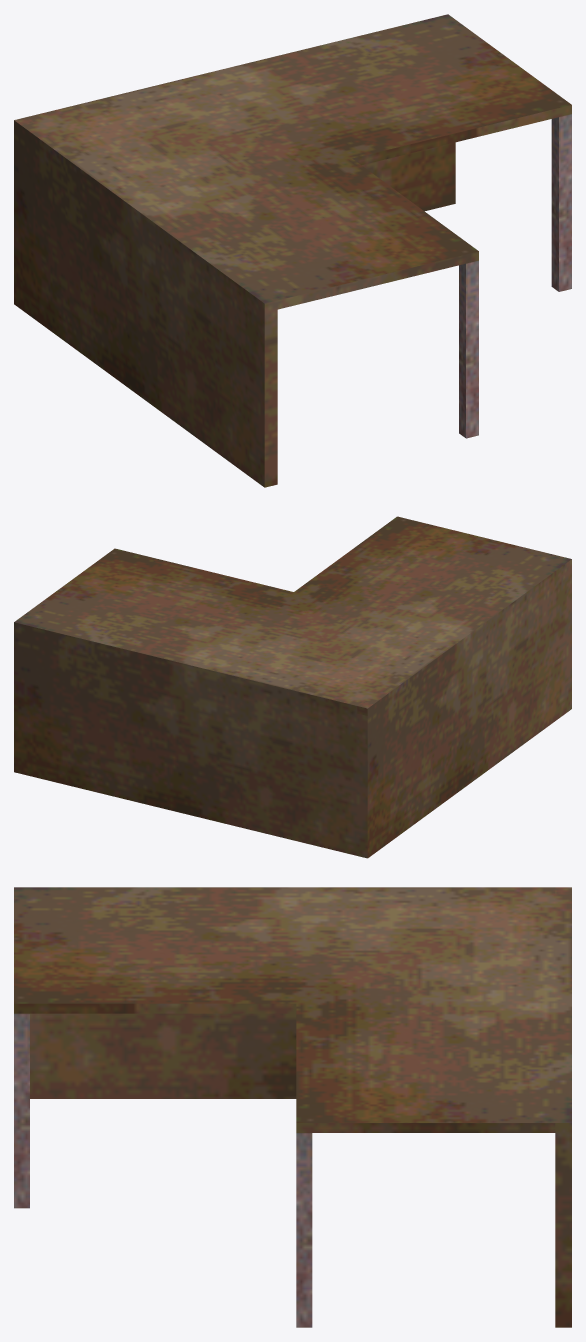
File: desk1_corner_weathered.obj
The picture shows the model from 3 angles, top to bottom: view 1: azimuth 30°, elevation 25°; view 2: azimuth 150°, elevation 25°; view 3: azimuth 270°, elevation 25°; orthographic projection. The views are drawn at different scales.
Visible parts, largest first — view 1: desk1_corner_weathered; view 2: desk1_corner_weathered; view 3: desk1_corner_weathered.
Boxes of the visible parts, x1,y1,x2,y2 form: desk1_corner_weathered: [14, 14, 571, 487]; desk1_corner_weathered: [14, 516, 571, 858]; desk1_corner_weathered: [14, 887, 571, 1327].
Size of the model in its own units: 2.2 by 0.8911 by 2.2.
